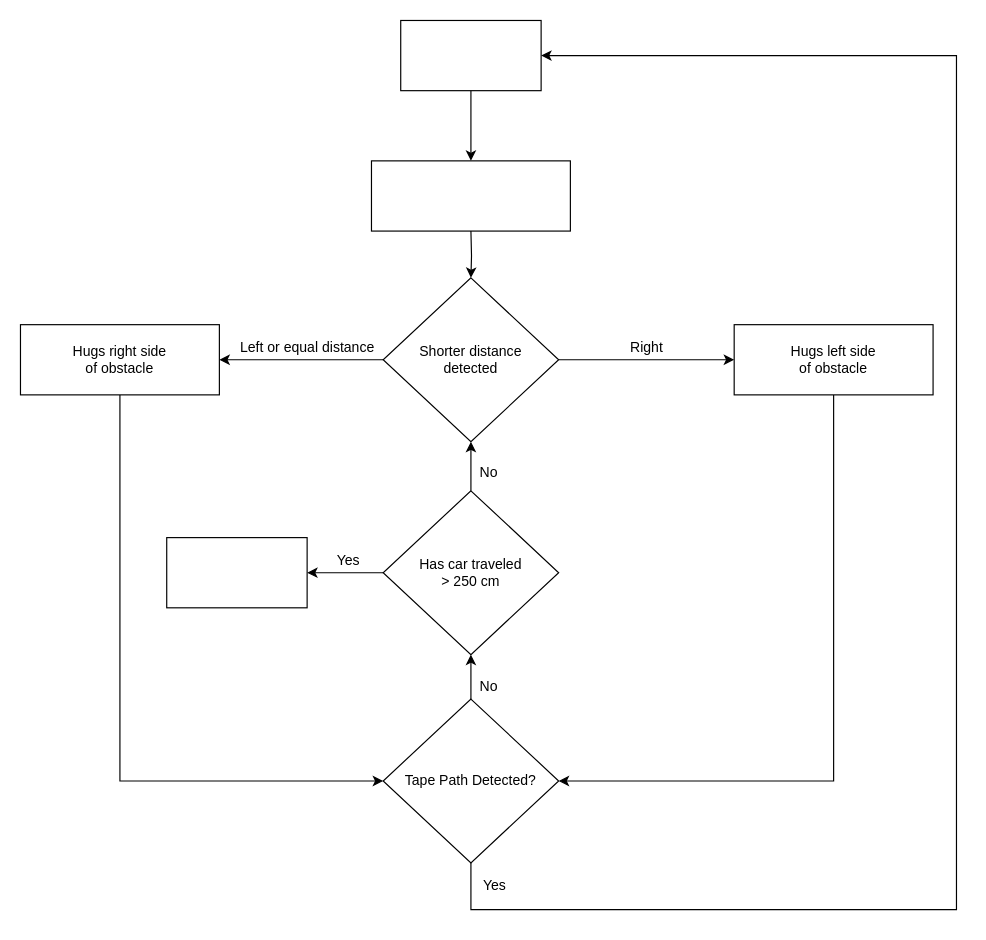
The diagram is 986 pixels wide and 940 high, and some of its shapes have lost their labels. Here are the shapes that lost their labels. From the top down, the box of each, then its label:
(400, 19, 541, 91): Drive Forward
(370, 160, 570, 231): Left Sensor or Right Sensor Detects Object < 100mm
(166, 536, 307, 608): End algorithm & display error message
